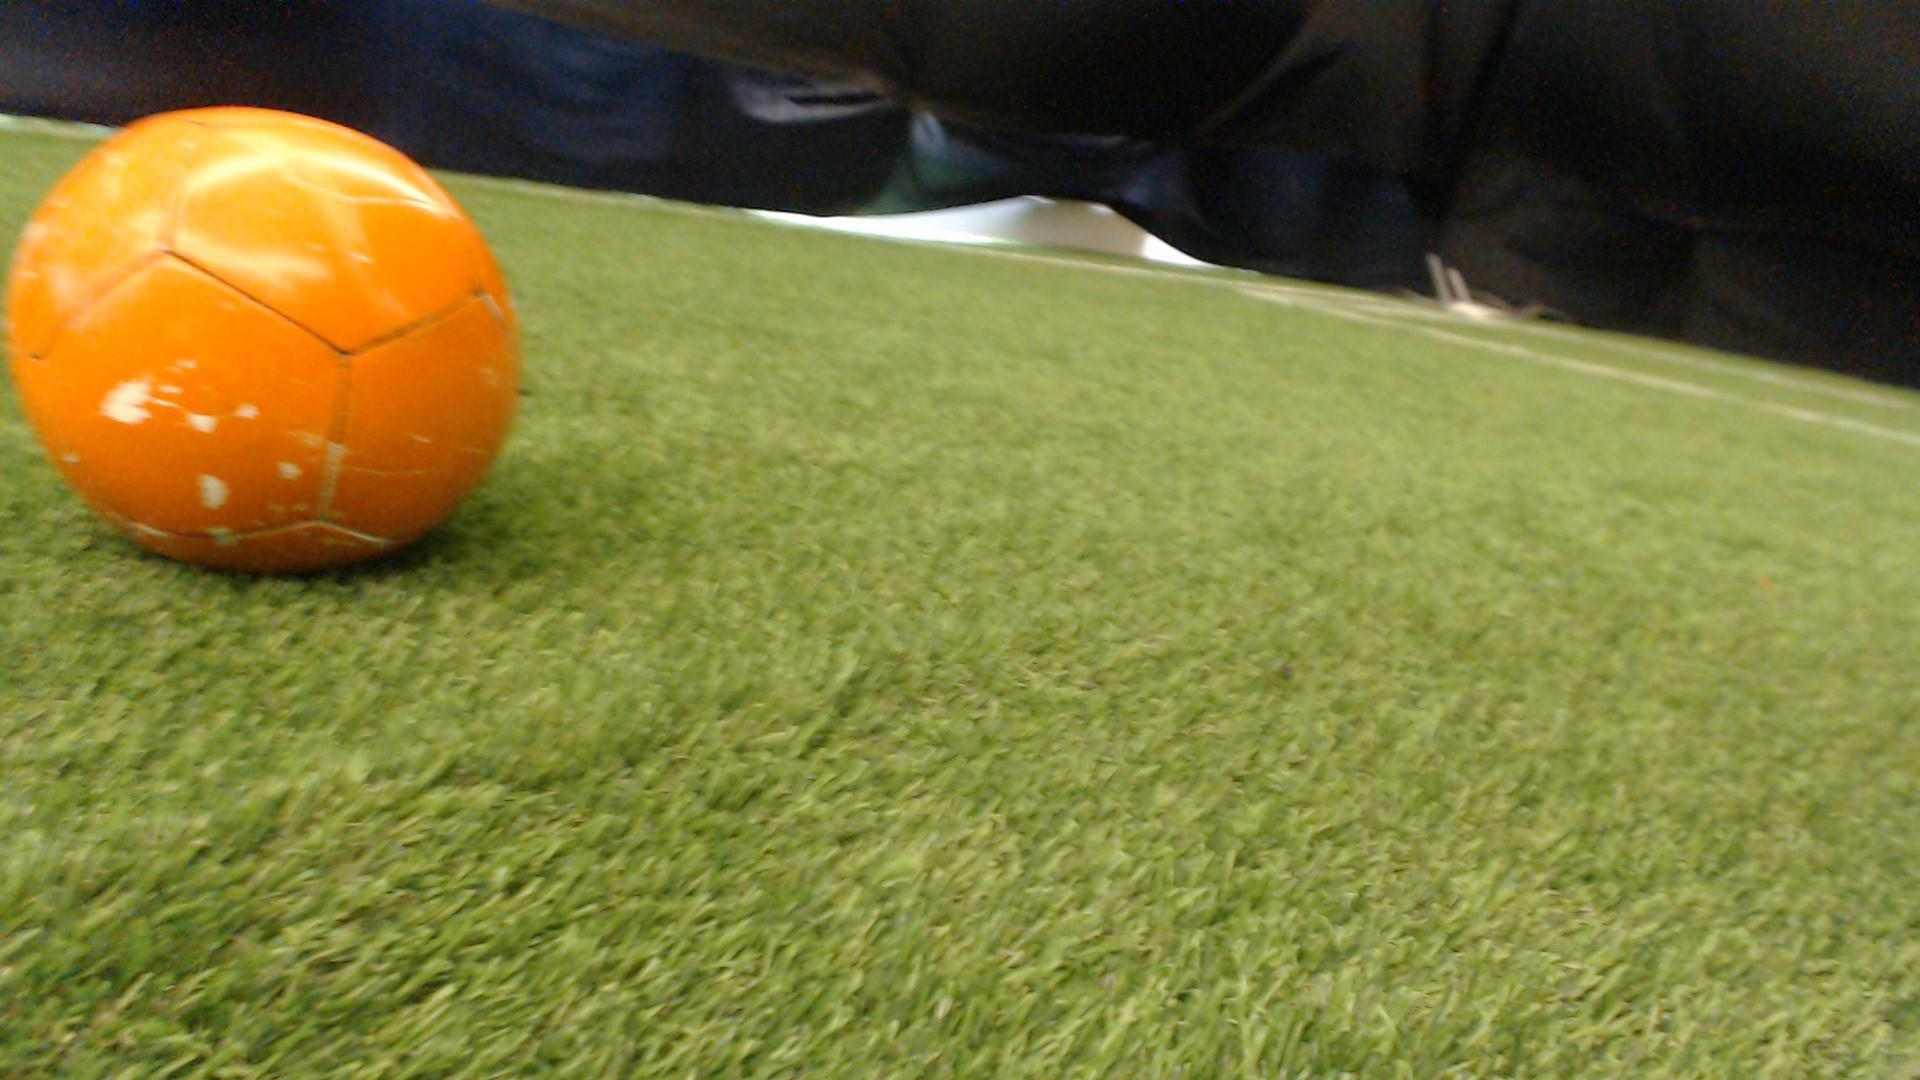bola: (0, 92, 549, 595)
